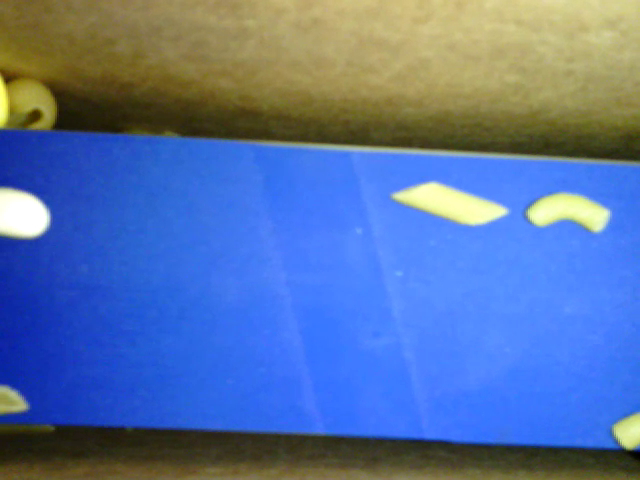elbow: (522, 192, 614, 237)
penne: (387, 174, 510, 231)
shell: (3, 71, 62, 132)
